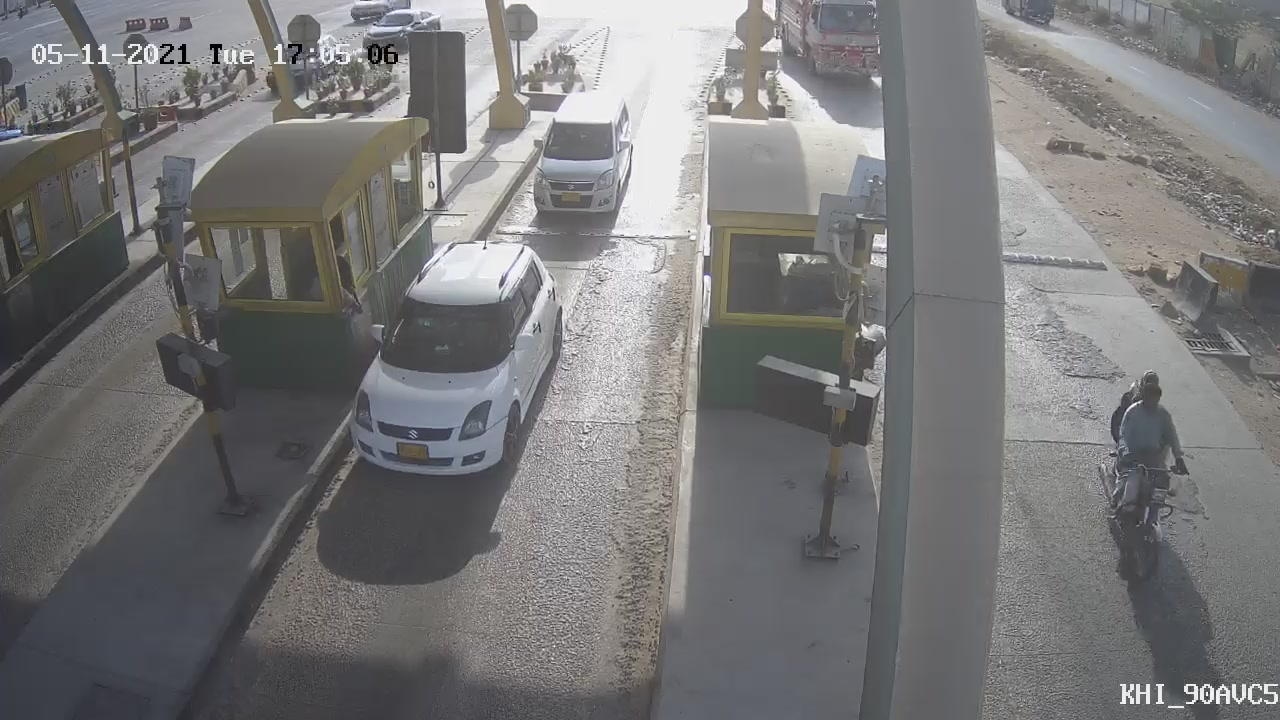F1: (323, 218, 582, 491), (511, 77, 653, 233)
